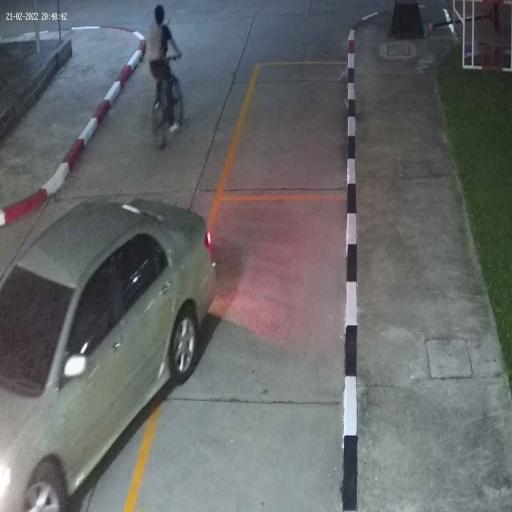car: (0, 195, 219, 512)
